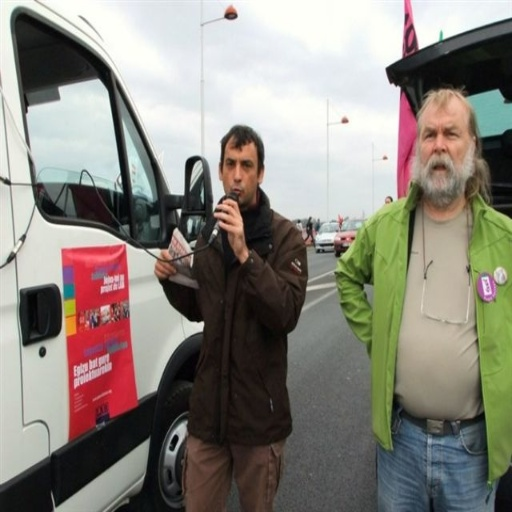hand: (205, 200, 249, 261), (152, 248, 177, 281)
